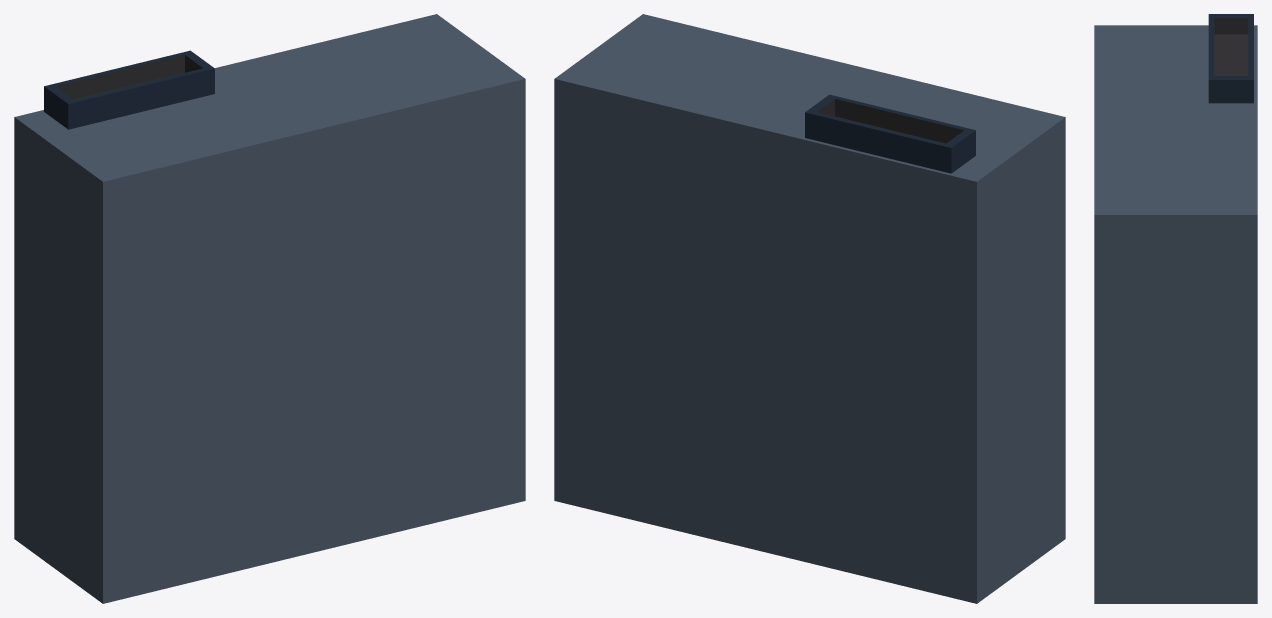
The model's file is HDD.obj.
3 renders of one model, left to right at view 1: azimuth 30°, elevation 25°; view 2: azimuth 150°, elevation 25°; view 3: azimuth 270°, elevation 25°, orthographic. The views are drawn at different scales.
Visible parts, largest first — view 1: HDD_Cube.232; view 2: HDD_Cube.232; view 3: HDD_Cube.232.
Part boxes in pixels (left/top/right/bottom): HDD_Cube.232: left=14, top=14, right=525, bottom=603; HDD_Cube.232: left=554, top=14, right=1065, bottom=603; HDD_Cube.232: left=1094, top=14, right=1257, bottom=603.
Bounding box in the file's own units: 1.44 × 1.46 × 0.5242.
Materials: 1 (1 with a texture image).
